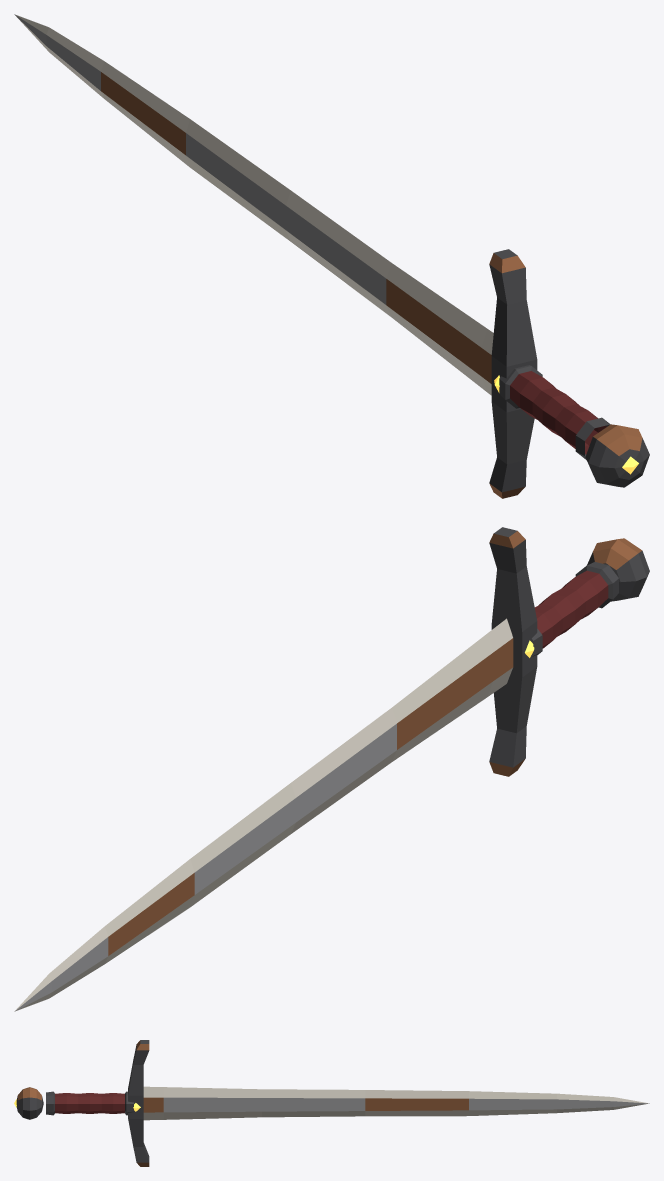
The model's file is held-sword.glb.
The picture shows the model from 3 angles, top to bottom: view 1: azimuth 30°, elevation 25°; view 2: azimuth 150°, elevation 25°; view 3: azimuth 270°, elevation 25°; orthographic projection. The views are drawn at different scales.
Visible parts, largest first — view 1: blade, crossguard, grip, pommel; view 2: blade, crossguard, grip, pommel; view 3: blade, grip, crossguard, pommel.
Boxes of the visible parts, x1,y1,x2,y2 form: blade: (14, 14, 493, 395); crossguard: (489, 249, 537, 498); grip: (499, 365, 610, 459); pommel: (585, 424, 649, 487); blade: (14, 618, 513, 1011); crossguard: (489, 527, 537, 776); grip: (532, 562, 618, 656); pommel: (587, 538, 649, 601); blade: (143, 1086, 649, 1120); grip: (46, 1091, 133, 1115); crossguard: (128, 1040, 149, 1166); pommel: (16, 1087, 43, 1119).
Size of what is drawn, in the model's own units: 0.054 by 0.21 by 0.9835.
